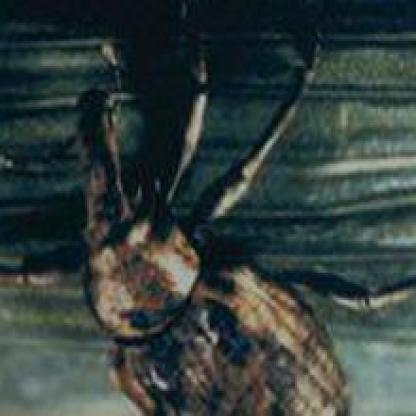rice-bug: (66, 78, 350, 416)
